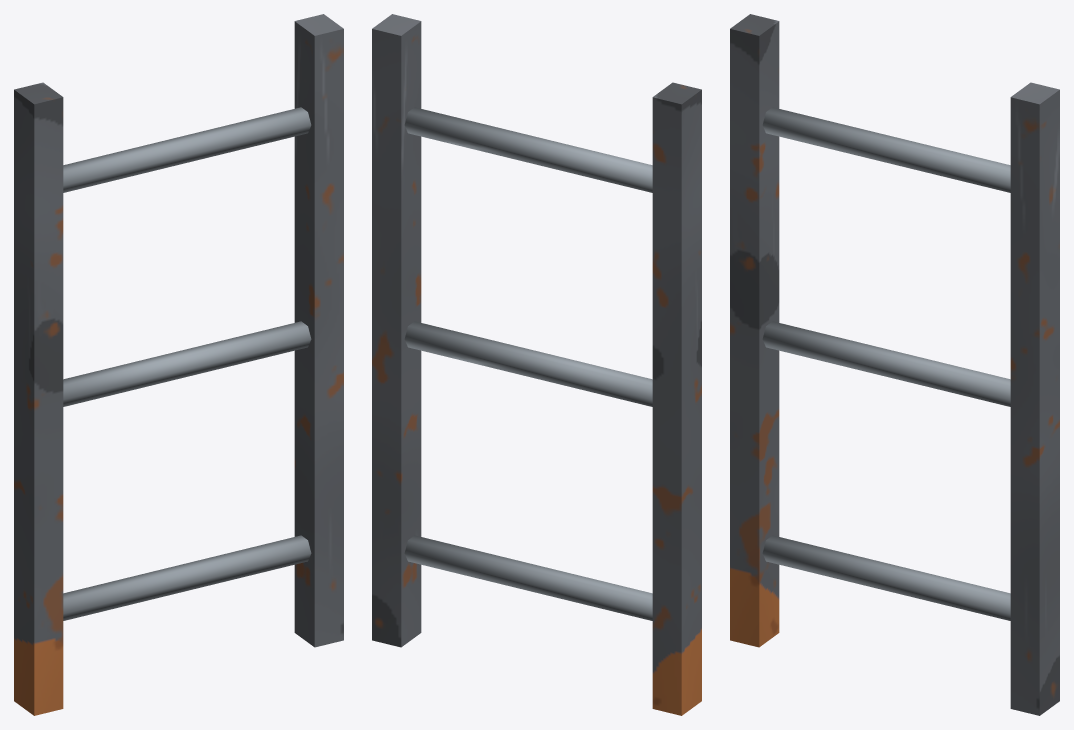
The model's file is ladder.glb.
3 views of the same model, side by side, from view 1: azimuth 30°, elevation 25°; view 2: azimuth 150°, elevation 25°; view 3: azimuth 330°, elevation 25° (orthographic).
Parts seen in each view (by area): view 1: Ladder; view 2: Ladder; view 3: Ladder.
Part boxes in pixels (x1,y1,x2,y2): Ladder: (14, 14, 343, 715); Ladder: (372, 14, 701, 715); Ladder: (730, 14, 1059, 715).
Size of the model in its own units: 0.53 by 1 by 0.06.
Materials: 1 (1 with a texture image).
